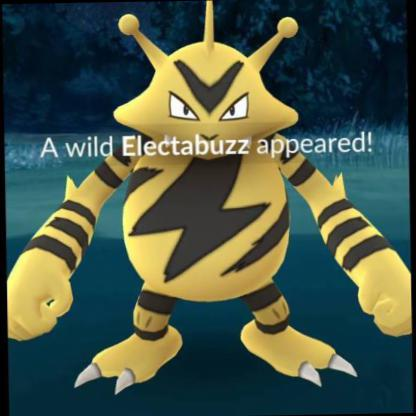Electabuzz: (1, 1, 416, 416)
